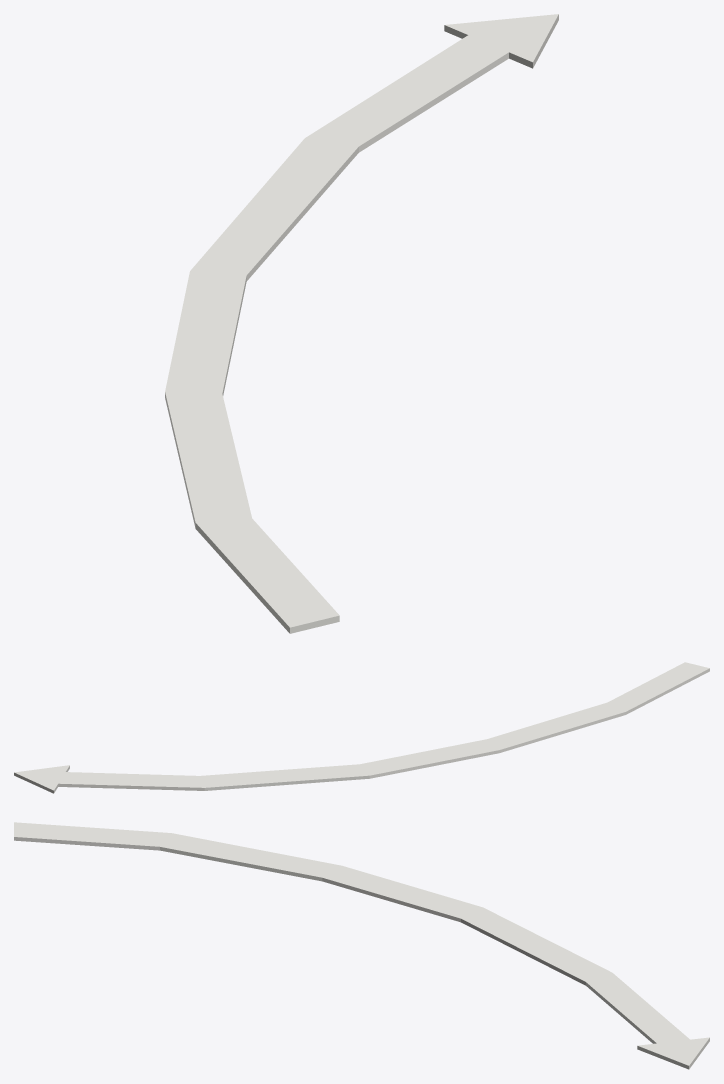
File: sign02.FBX
The picture shows the model from 3 angles, top to bottom: view 1: azimuth 30°, elevation 25°; view 2: azimuth 150°, elevation 25°; view 3: azimuth 270°, elevation 25°; orthographic projection. The views are drawn at different scales.
Visible parts, largest first — view 1: Plane001; view 2: Plane001; view 3: Plane001.
Boxes of the visible parts, left/top/right/bottom form: Plane001: left=165, top=14, right=558, bottom=633; Plane001: left=14, top=662, right=709, bottom=793; Plane001: left=14, top=822, right=709, bottom=1069.
Size of the model in its own units: 71.87 by 0.5186 by 86.78.
Materials: 1 (1 with a texture image).
